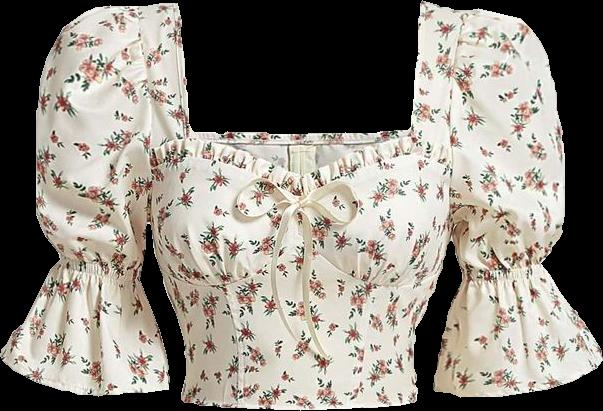Bodice: (132, 1, 460, 409)
Neckline: (173, 1, 425, 181), (158, 229, 441, 291)
Sleeve: (0, 5, 169, 395), (433, 8, 602, 396)
Sleeveline: (131, 5, 155, 223), (446, 8, 463, 242), (59, 254, 141, 279), (462, 260, 542, 278)
Waistline: (179, 395, 420, 410)
